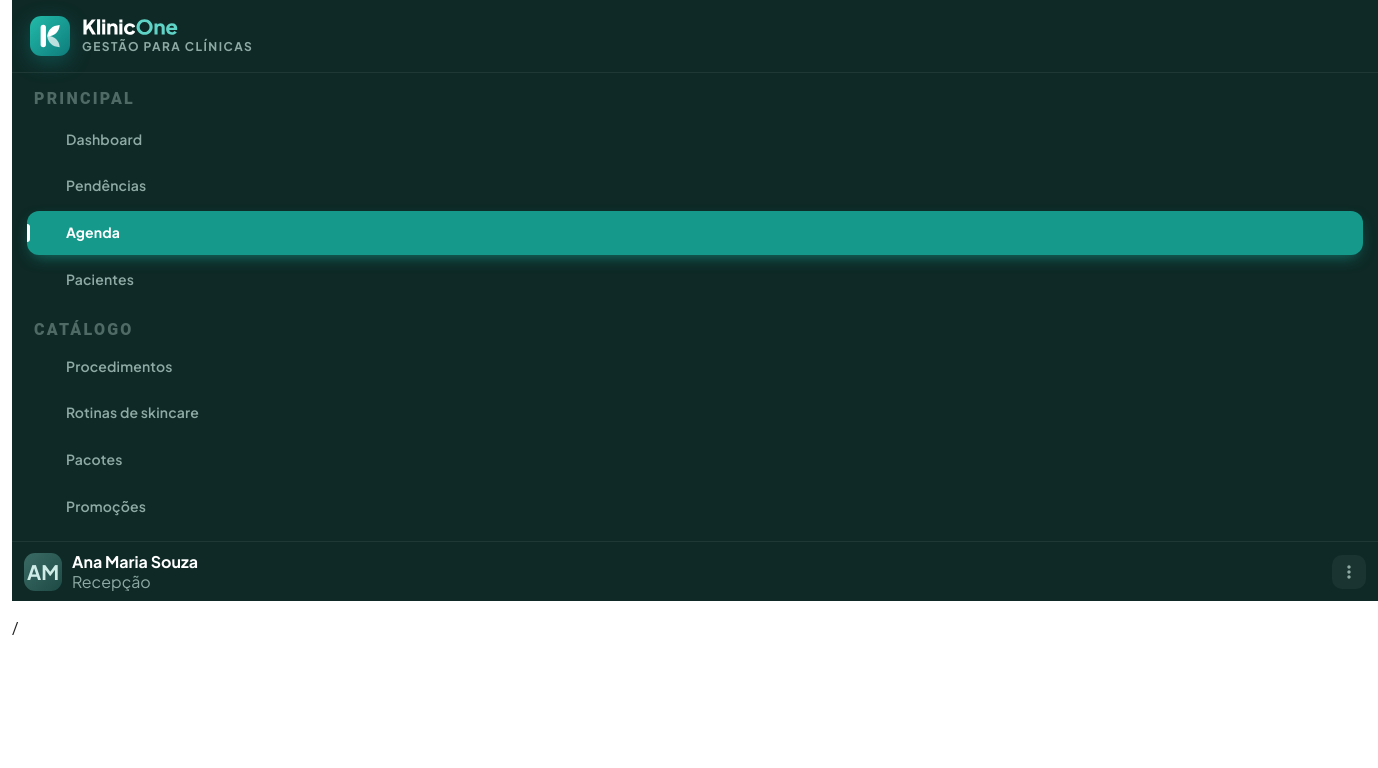
Test: SidebarContent › "Trocar painel" só aparece com canChoosePanel e navega
The width and height of the screenshot is (1378, 768).
What coordinates should you click on to do the following:
click the button with aria-label "Menu do usuário"
I would click on:
 (43, 572)
Its box is [24, 552, 1322, 591].
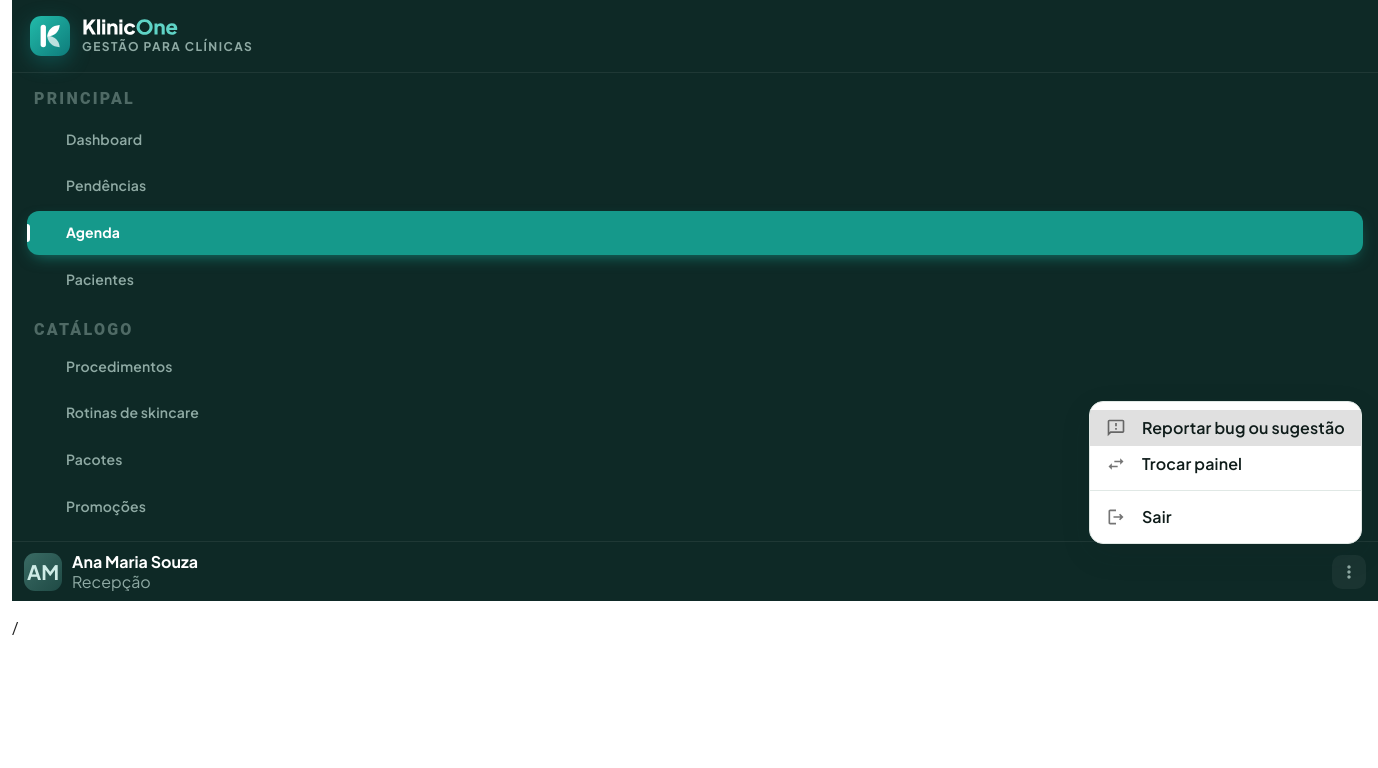
What coordinates should you click on to do the following:
click the menu item "Trocar painel"
I would click on:
 (1174, 464)
Its box is [1106, 453, 1242, 474].
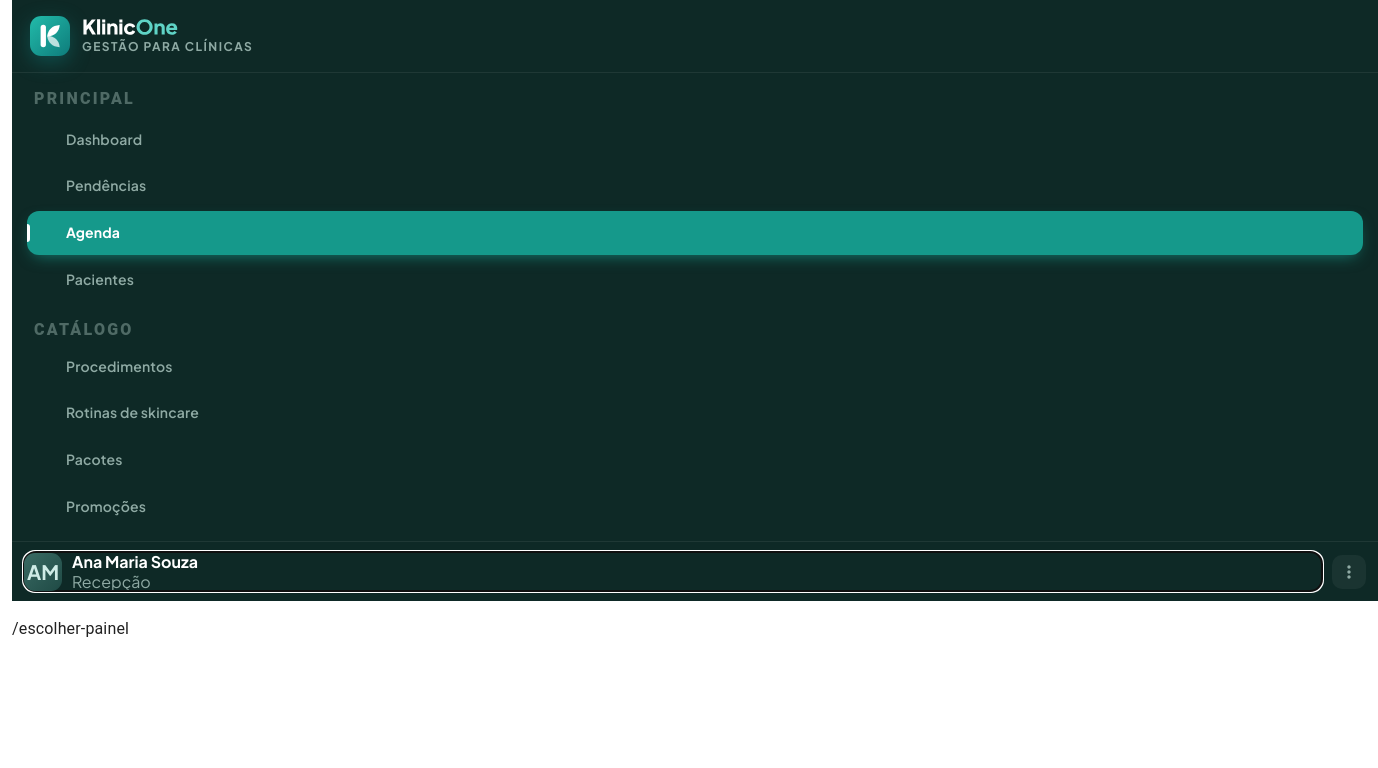
Now the text with test id "where" reads "/escolher-painel", box [12, 619, 129, 638]
